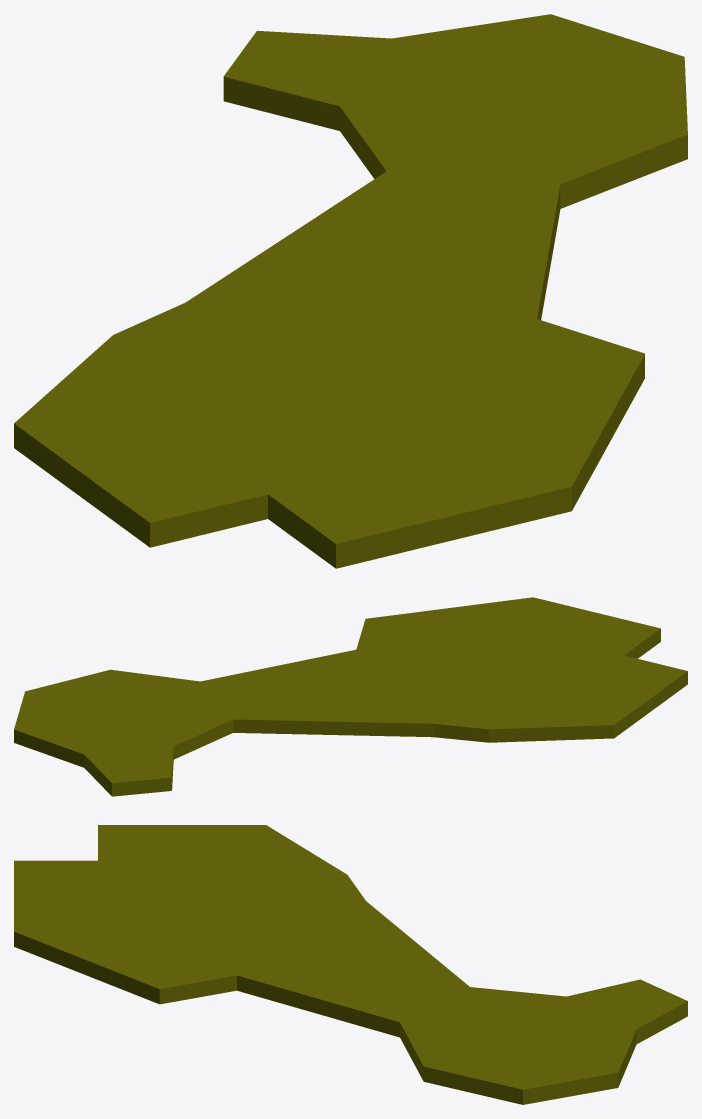
Rendered from x_0_boloto_29_1_rmstrd.fbx.
The picture shows the model from 3 angles, top to bottom: view 1: azimuth 30°, elevation 25°; view 2: azimuth 150°, elevation 25°; view 3: azimuth 270°, elevation 25°; orthographic projection. The views are drawn at different scales.
Visible parts, largest first — view 1: x_0_boloto_29_1_rmstrd1; view 2: x_0_boloto_29_1_rmstrd1; view 3: x_0_boloto_29_1_rmstrd1.
Part boxes in pixels (bbox=[...]): x_0_boloto_29_1_rmstrd1: bbox=[14, 14, 687, 568]; x_0_boloto_29_1_rmstrd1: bbox=[14, 597, 687, 796]; x_0_boloto_29_1_rmstrd1: bbox=[14, 825, 687, 1104].
Size of the model in its own units: 7.45 by 0.2 by 8.02.
